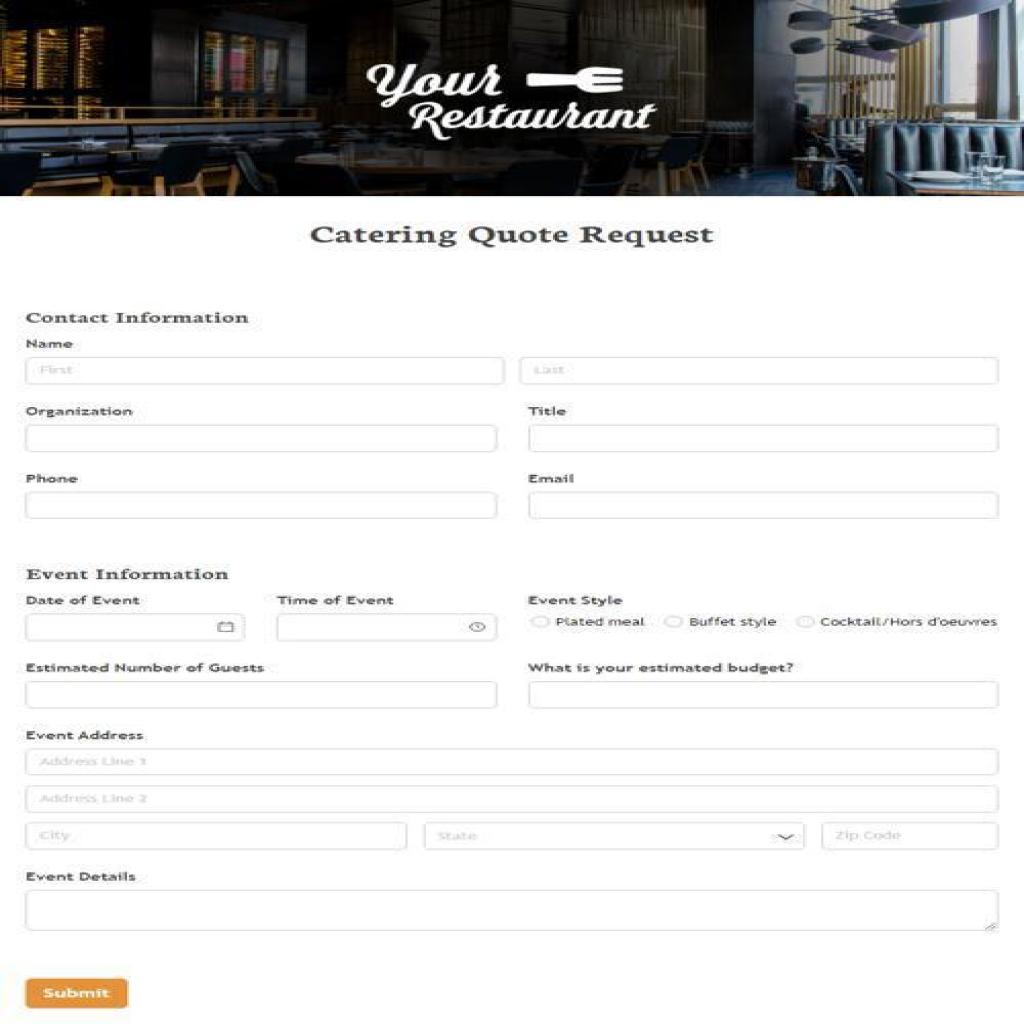button: (27, 978, 127, 1008)
dropdown: (428, 822, 807, 849)
input: (24, 890, 998, 931), (22, 784, 998, 814), (27, 748, 995, 776), (20, 422, 502, 455), (518, 422, 1012, 454), (530, 681, 1004, 711), (526, 356, 996, 386), (534, 489, 1000, 519), (16, 491, 500, 519), (26, 356, 504, 384), (26, 680, 498, 705), (26, 820, 408, 850), (278, 612, 496, 643), (24, 614, 246, 640), (826, 820, 998, 850)
label: (295, 217, 729, 250), (20, 560, 240, 584), (526, 660, 799, 676), (25, 310, 256, 327), (22, 661, 270, 676), (508, 590, 635, 612), (819, 616, 1004, 630), (20, 400, 142, 420), (20, 726, 148, 744), (10, 592, 146, 608), (20, 869, 144, 886), (268, 594, 406, 608), (557, 614, 649, 631), (518, 468, 586, 486), (518, 400, 574, 420), (688, 616, 778, 628), (16, 472, 92, 486), (24, 338, 78, 351)
radio: (658, 610, 688, 630), (795, 614, 817, 631), (528, 616, 551, 630)
